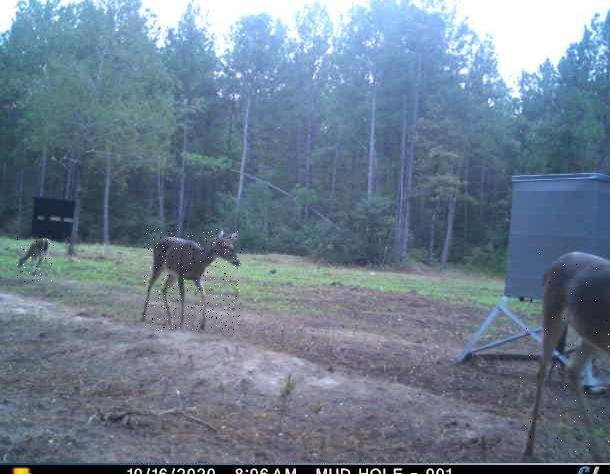Deer: (520, 252, 610, 462), (144, 229, 243, 331), (17, 236, 54, 282)
